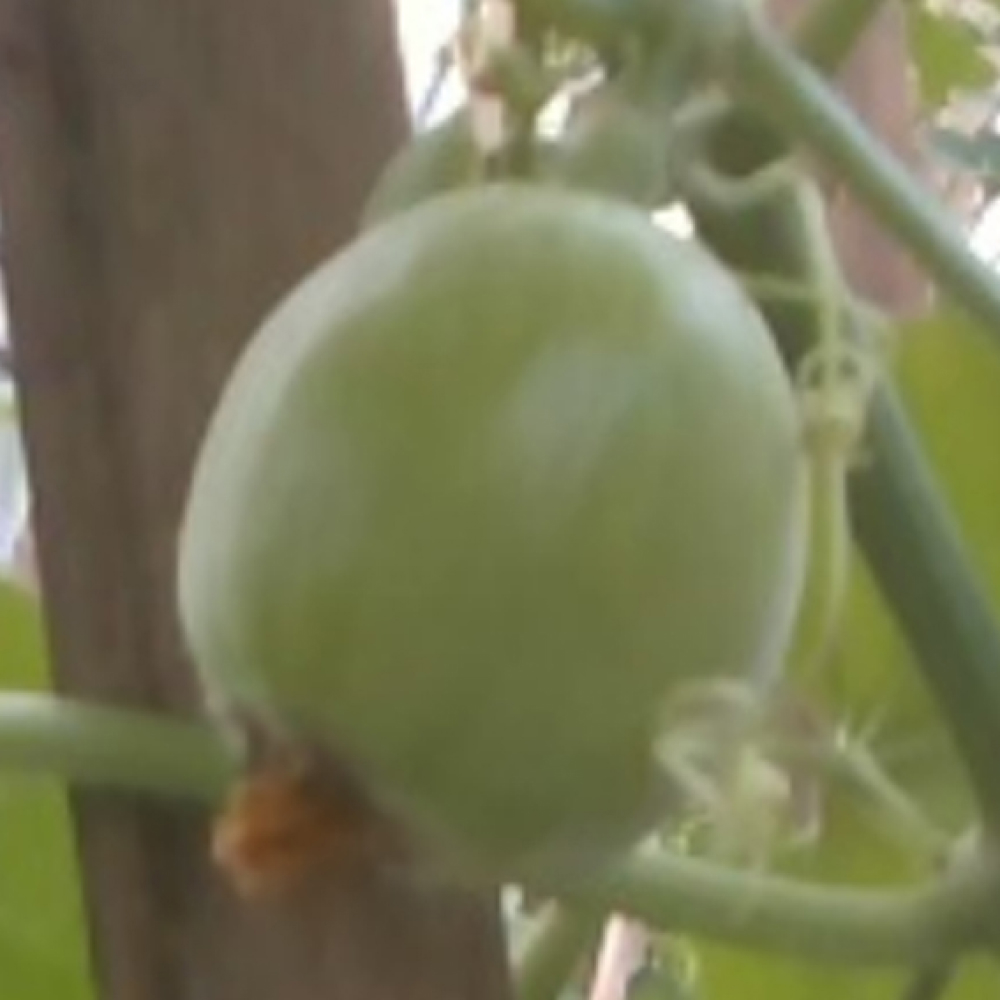melon: (168, 177, 819, 897)
